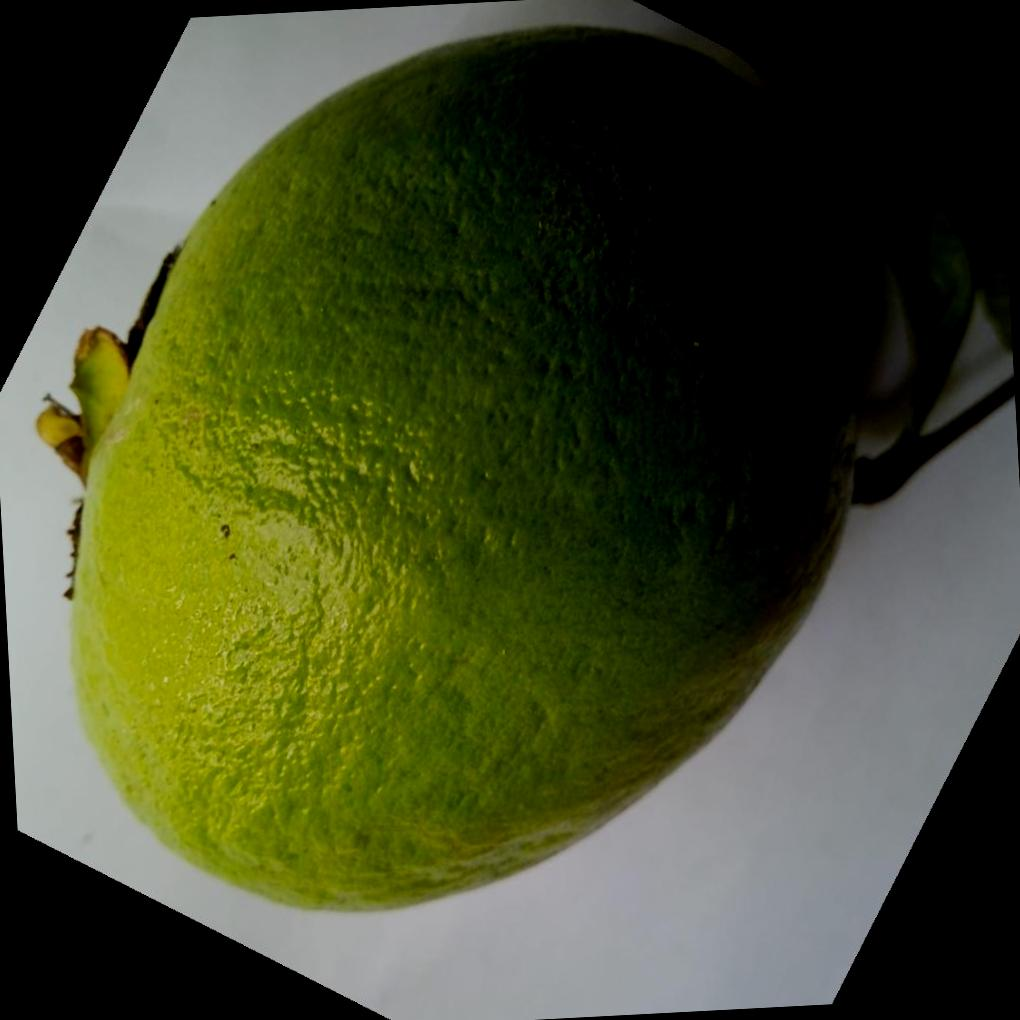FreshGuava: (68, 22, 863, 910)
